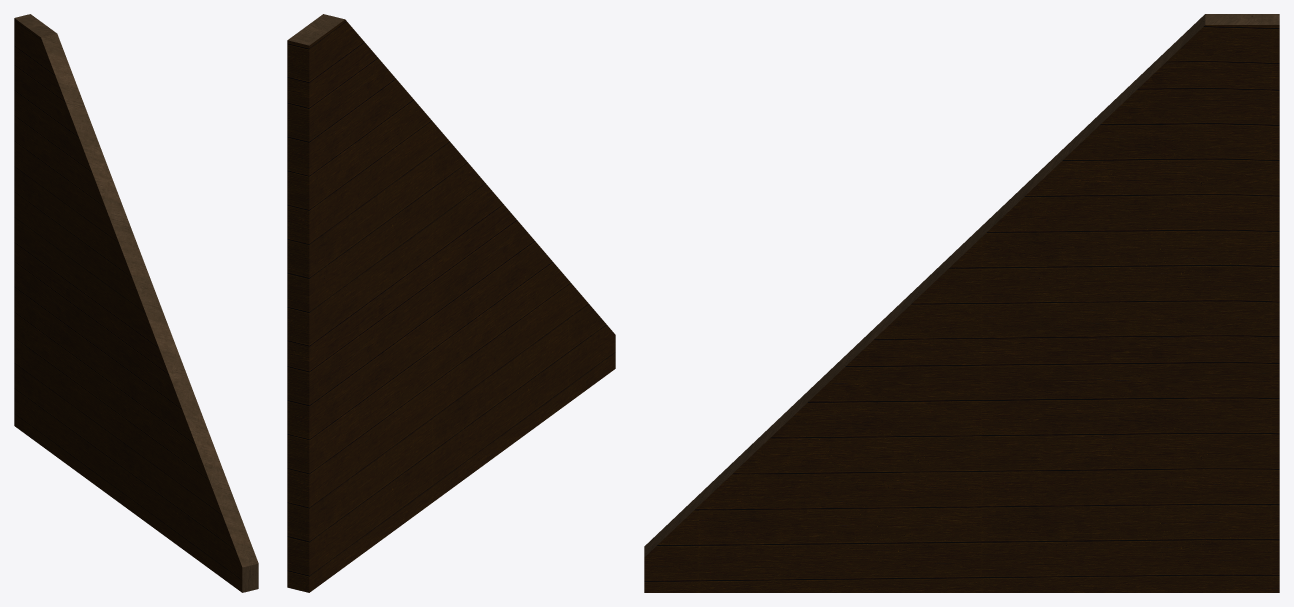
File: MerdivenYanıDuvar.fbx
3 renders of one model, left to right at view 1: azimuth 30°, elevation 25°; view 2: azimuth 150°, elevation 25°; view 3: azimuth 270°, elevation 25°, orthographic. The views are drawn at different scales.
Visible parts, largest first — view 1: Plane.001; view 2: Plane.001; view 3: Plane.001.
Part boxes in pixels (x1,y1,x2,y2): Plane.001: (14, 14, 258, 592); Plane.001: (287, 14, 615, 592); Plane.001: (644, 14, 1279, 592).
Size of the model in its own units: 12.55 by 300 by 304.
2 materials, 2 textured.
